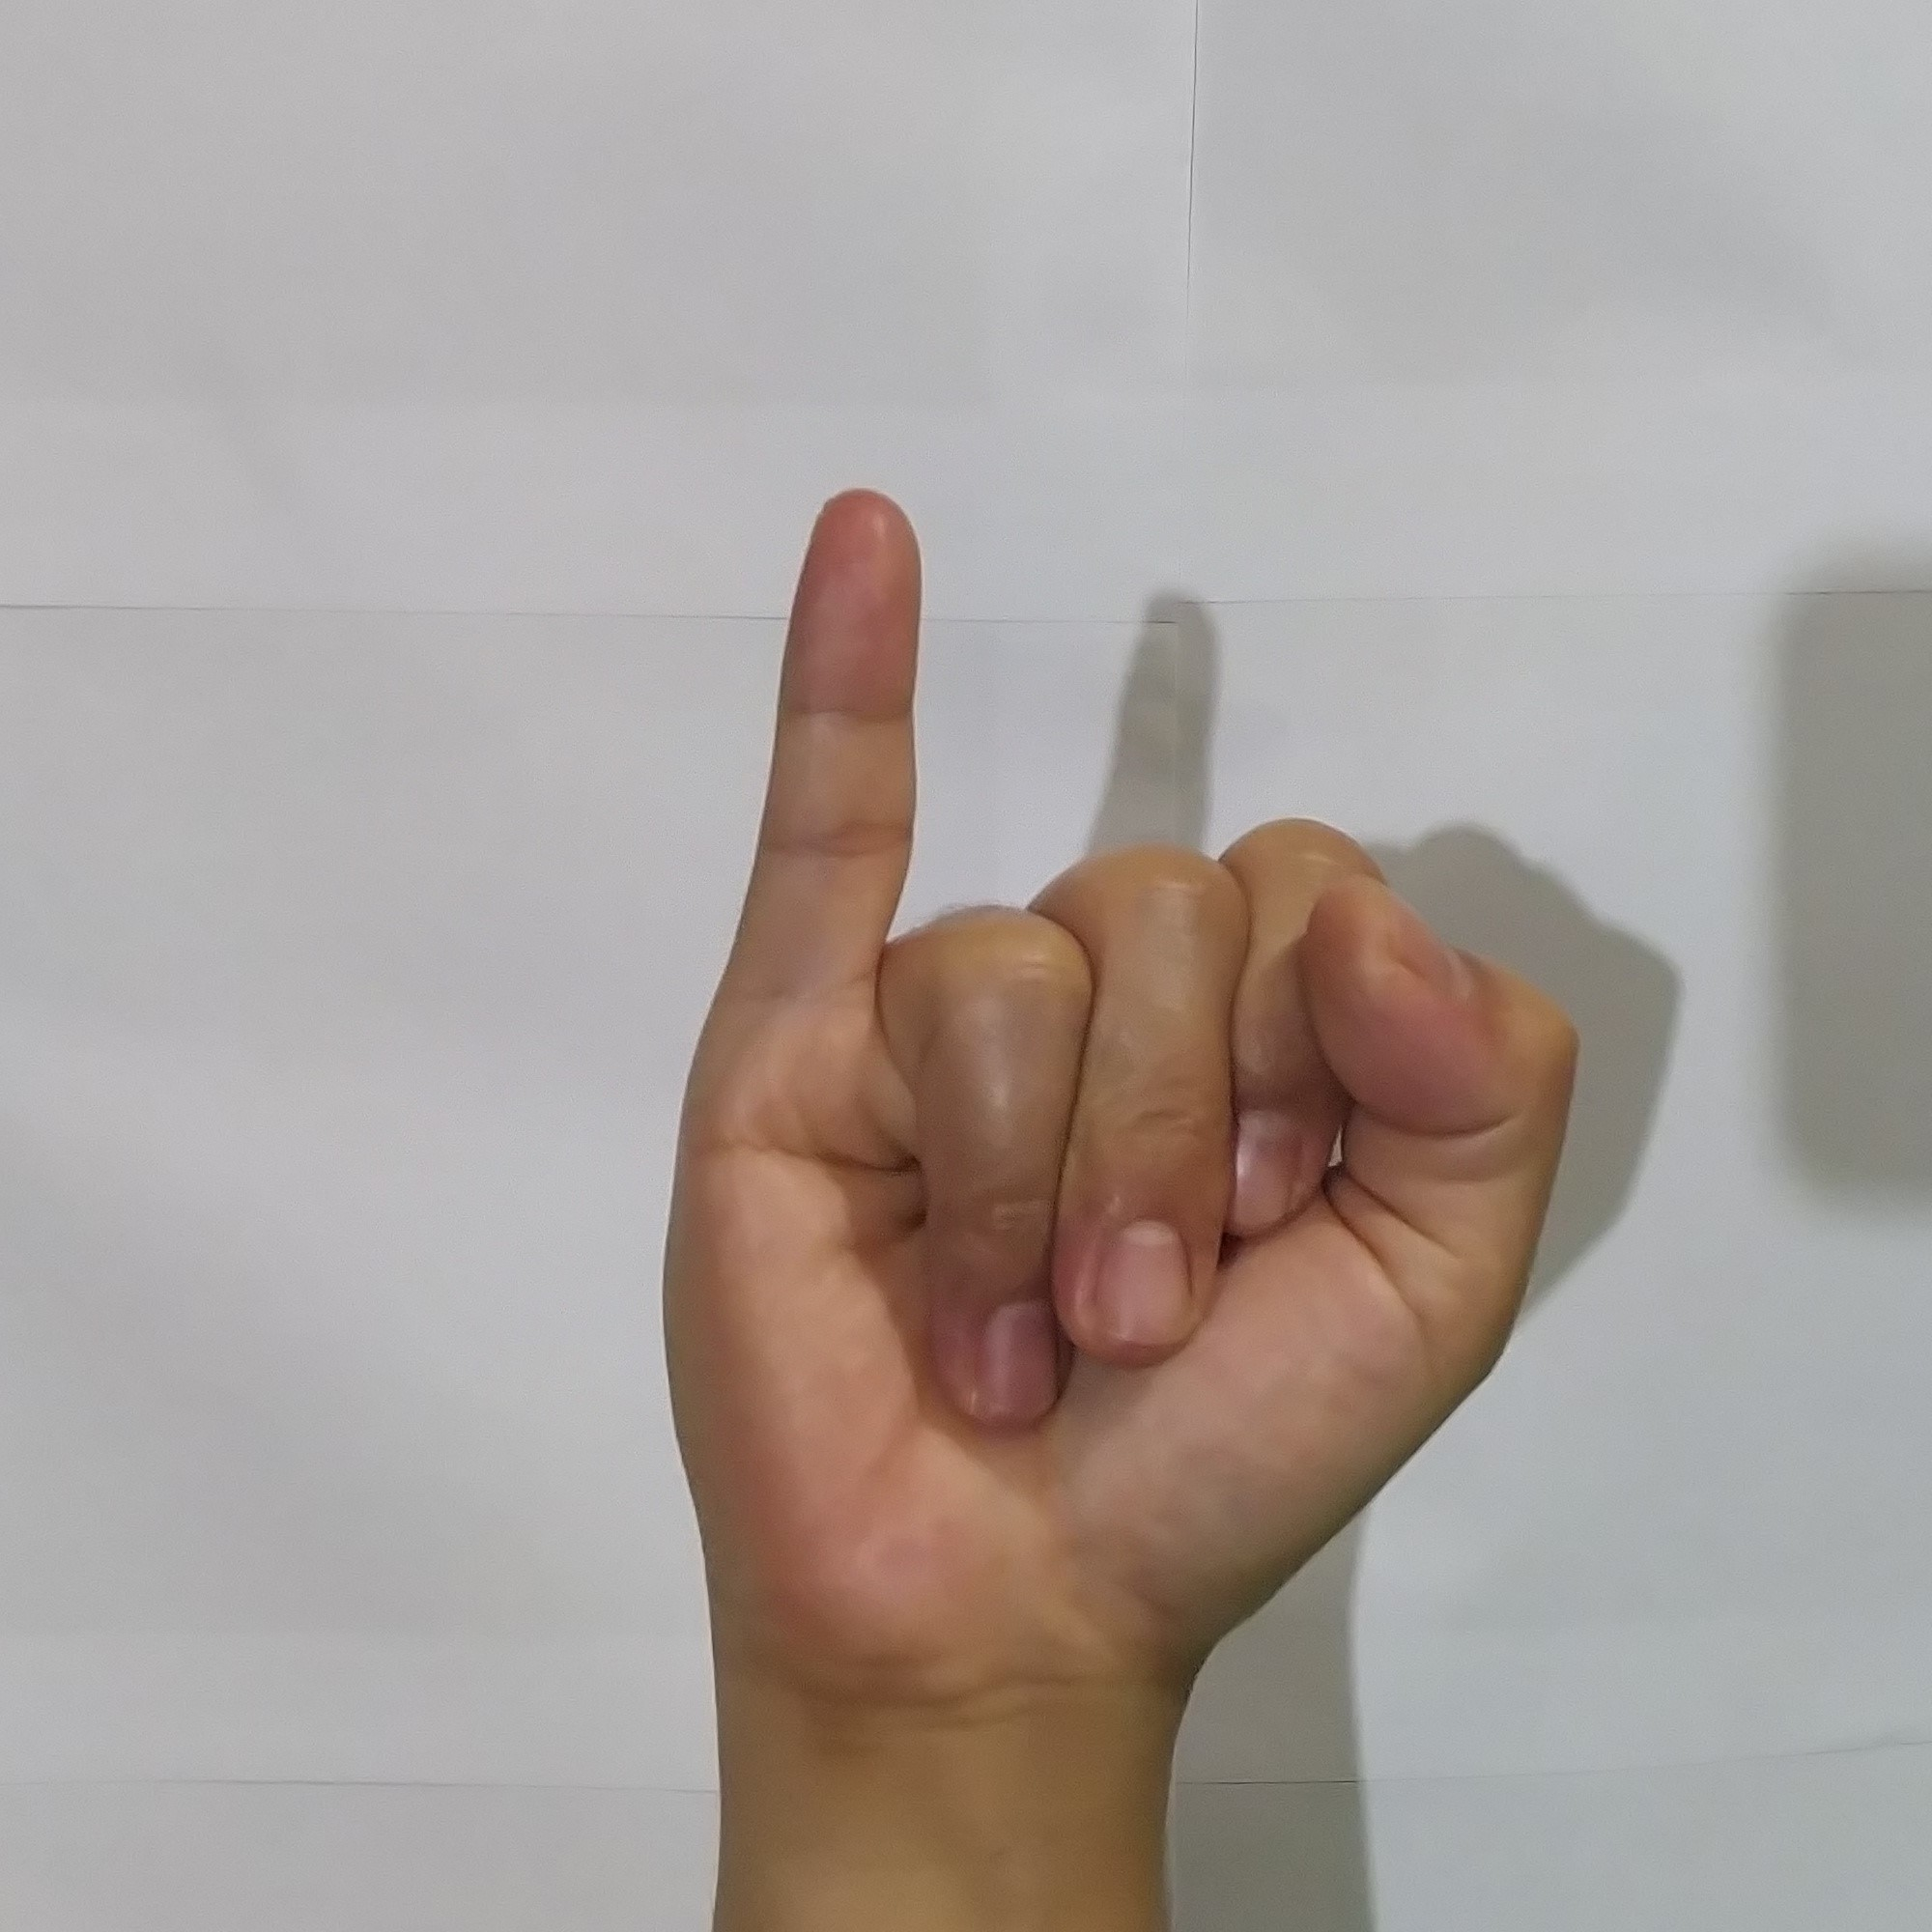I: (623, 460, 1605, 1654)
